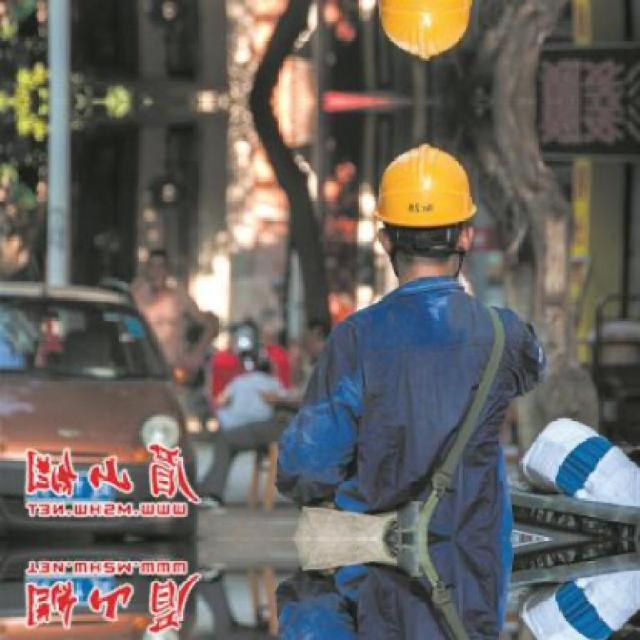helmet: (371, 134, 480, 280), (371, 0, 482, 68)
